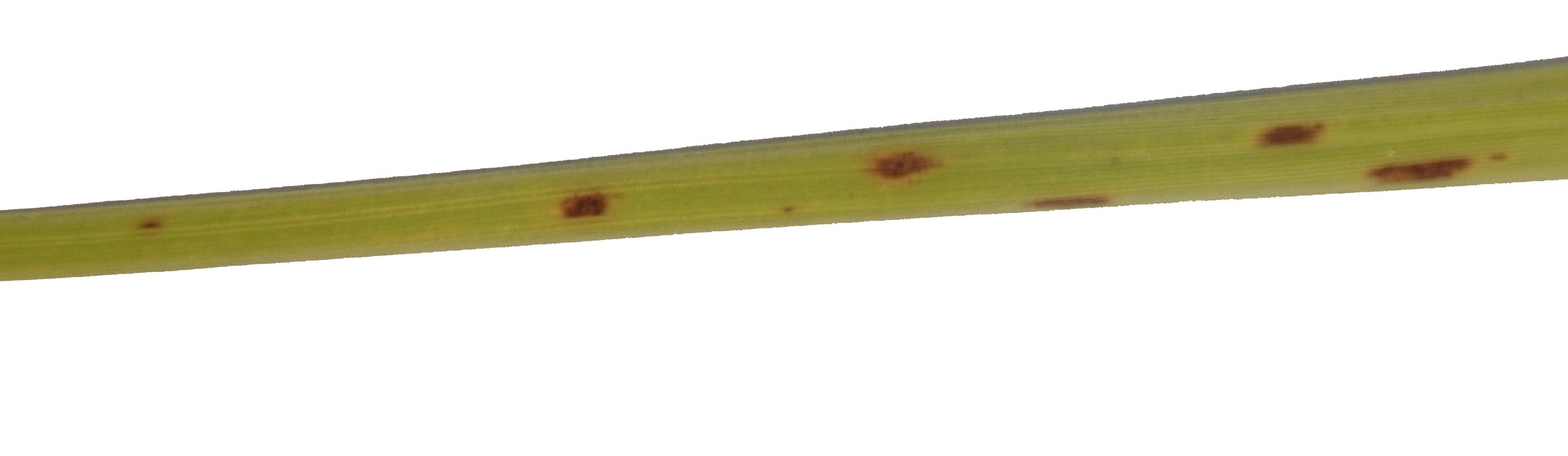Brown spot: (1383, 144, 1464, 183), (1269, 107, 1323, 153), (560, 188, 614, 222), (882, 151, 931, 183), (1048, 188, 1103, 208)
